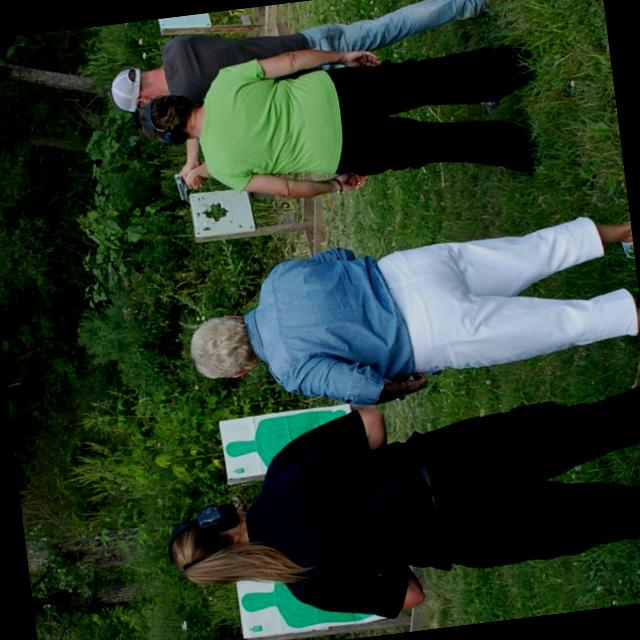handgun: (173, 169, 195, 203)
